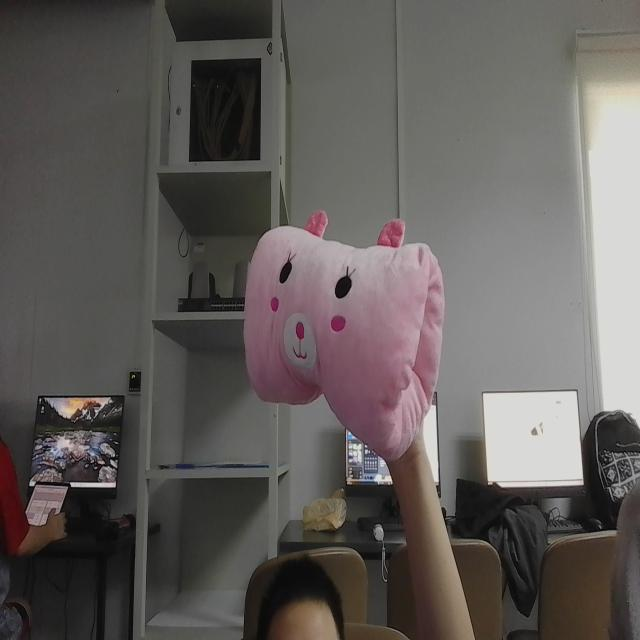pinkpillow: (240, 200, 446, 468)
